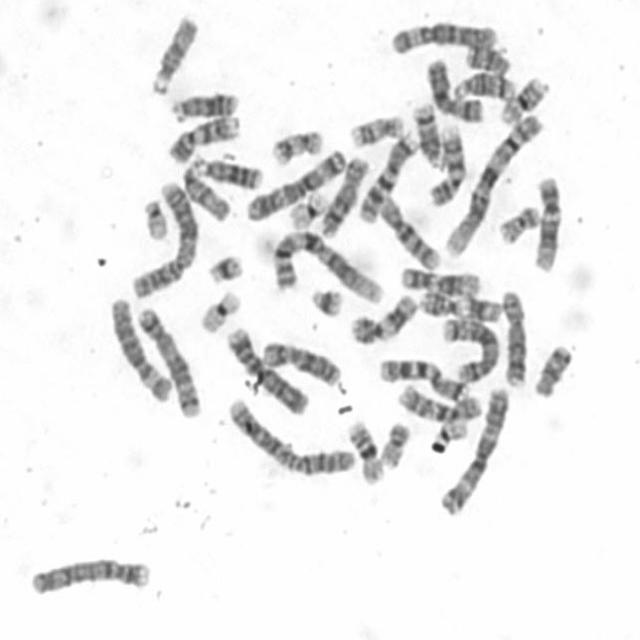A1: (440, 112, 545, 259), (267, 226, 385, 306)
A2: (225, 393, 358, 478), (126, 179, 200, 301)
A3: (437, 382, 512, 517), (242, 146, 348, 224)
B4: (224, 323, 309, 417), (28, 552, 153, 596)
B5: (134, 302, 203, 419), (439, 313, 501, 384)
C10: (376, 194, 442, 272), (395, 382, 483, 424)
C11: (346, 289, 418, 346), (416, 288, 504, 324)
C12: (528, 172, 562, 272), (398, 264, 481, 298)
C6: (107, 293, 174, 402), (387, 18, 498, 56)
C7: (355, 130, 418, 224), (375, 353, 472, 402)
C8: (316, 152, 372, 240), (498, 285, 529, 389)
C9: (166, 112, 242, 164), (426, 120, 466, 208)
D13: (192, 153, 264, 192), (168, 87, 240, 123)
D14: (408, 99, 444, 169), (451, 70, 517, 104)
D15: (147, 12, 199, 96), (181, 157, 232, 223)
E16: (345, 416, 385, 487), (497, 73, 549, 125)
E17: (267, 126, 324, 168), (346, 110, 405, 150)
E18: (530, 340, 574, 400), (462, 43, 512, 75)
F19: (196, 286, 242, 335), (285, 187, 329, 231)
F20: (495, 200, 542, 247), (377, 419, 412, 470)
G21: (205, 251, 245, 285), (308, 283, 345, 319)
G22: (426, 416, 470, 454), (139, 195, 171, 242)
X: (423, 55, 485, 124), (258, 338, 343, 388)
